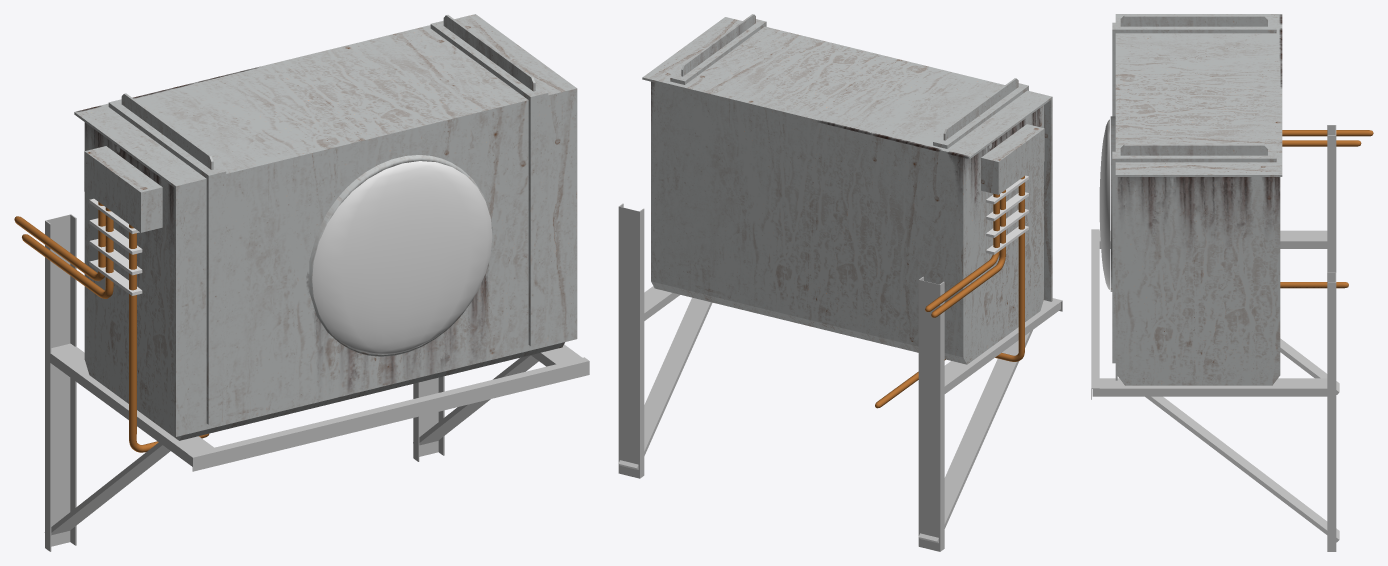
The model's file is AirConditioner.fbx.
The picture shows the model from 3 angles, left to right: view 1: azimuth 30°, elevation 25°; view 2: azimuth 150°, elevation 25°; view 3: azimuth 270°, elevation 25°; orthographic projection. The views are drawn at different scales.
Parts seen in each view (by area): view 1: Cube.002, Sphere, Cube, Plane, Cube.003; view 2: Cube.002, Cube, Plane, Cube.003; view 3: Cube.002, Cube, Plane, Sphere.
Boxes of the visible parts, left/top/right/bottom form: Cube.002: left=74, top=14, right=577, bottom=440; Sphere: left=312, top=161, right=492, bottom=354; Cube: left=44, top=214, right=589, bottom=551; Plane: left=14, top=202, right=209, bottom=452; Cube.003: left=89, top=198, right=142, bottom=295; Cube.002: left=642, top=14, right=1052, bottom=364; Cube: left=618, top=203, right=1062, bottom=551; Plane: left=875, top=176, right=1024, bottom=408; Cube.003: left=986, top=175, right=1028, bottom=254; Cube.002: left=1110, top=14, right=1282, bottom=385; Cube: left=1091, top=125, right=1339, bottom=551; Plane: left=1280, top=130, right=1373, bottom=288; Sphere: left=1099, top=119, right=1109, bottom=289.
Bounding box in the file's own units: 1124 × 1240 × 808.
